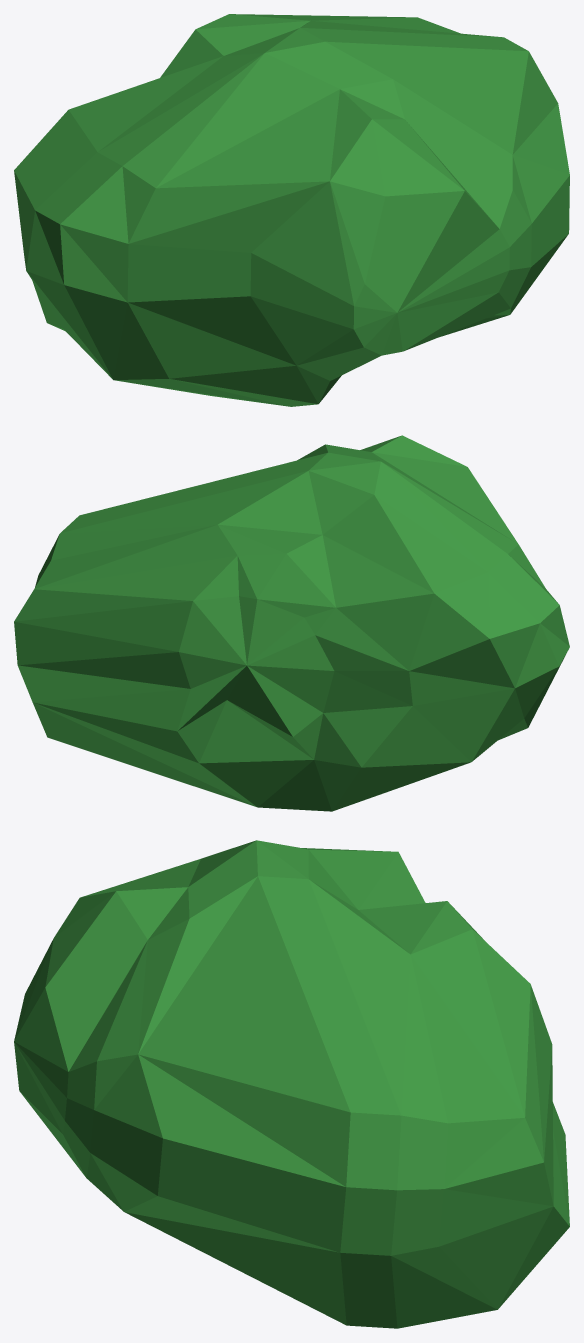
File: bush.gltf
The picture shows the model from 3 angles, top to bottom: view 1: azimuth 30°, elevation 25°; view 2: azimuth 150°, elevation 25°; view 3: azimuth 270°, elevation 25°; orthographic projection. The views are drawn at different scales.
Visible parts, largest first — view 1: node_MeshObject851760832-PolyPaper10; view 2: node_MeshObject851760832-PolyPaper10; view 3: node_MeshObject851760832-PolyPaper10.
Part boxes in pixels (x1,y1,x2,y2): node_MeshObject851760832-PolyPaper10: (14,14,569,406); node_MeshObject851760832-PolyPaper10: (14,435,569,811); node_MeshObject851760832-PolyPaper10: (14,840,569,1328).
Bounding box in the file's own units: 0.5366 × 0.3383 × 0.4352.
